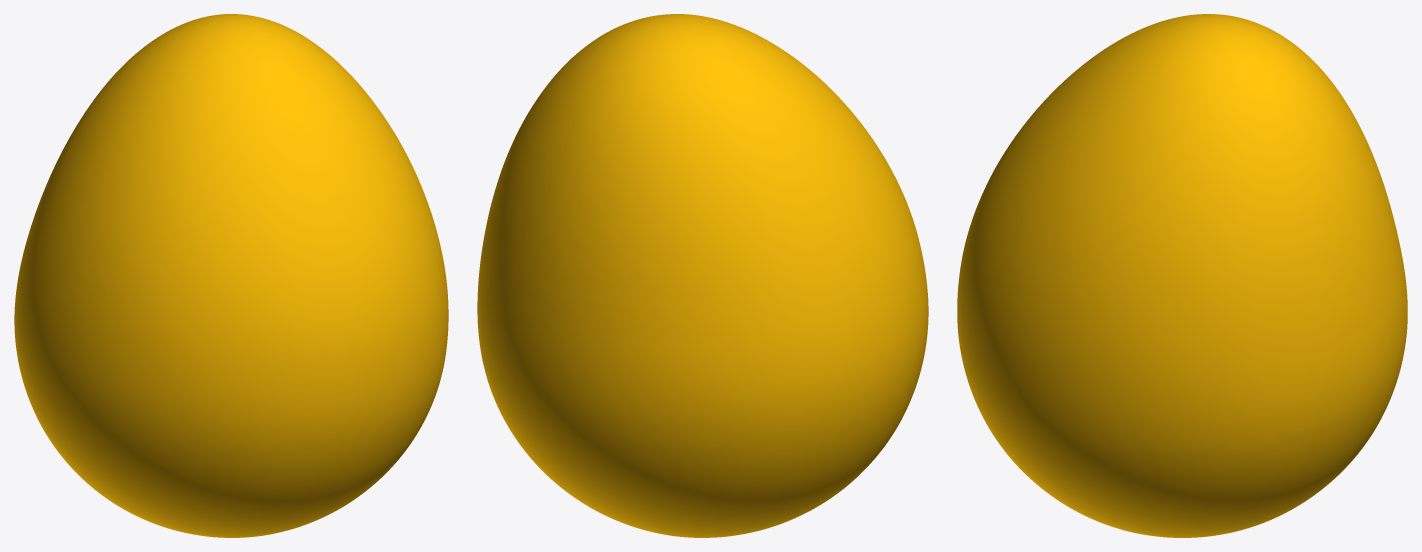
The model's file is Amber.fbx.
The picture shows the model from 3 angles, left to right: view 1: azimuth 30°, elevation 25°; view 2: azimuth 150°, elevation 25°; view 3: azimuth 270°, elevation 25°; orthographic projection. The views are drawn at different scales.
Visible parts, largest first — view 1: Amber; view 2: Amber; view 3: Amber.
Boxes of the visible parts, left/top/right/bottom form: Amber: left=14, top=14, right=448, bottom=537; Amber: left=477, top=14, right=928, bottom=537; Amber: left=957, top=14, right=1407, bottom=537.
Size of the model in its own units: 199 by 243 by 199.
